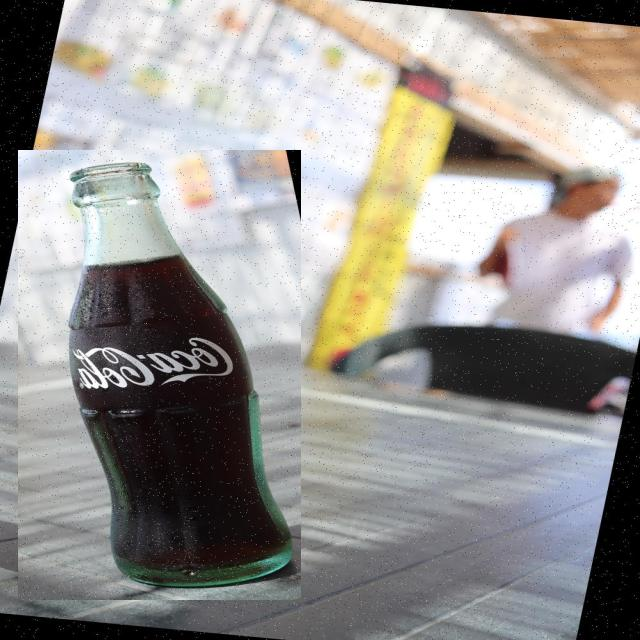coca-cola: (18, 150, 301, 600)
